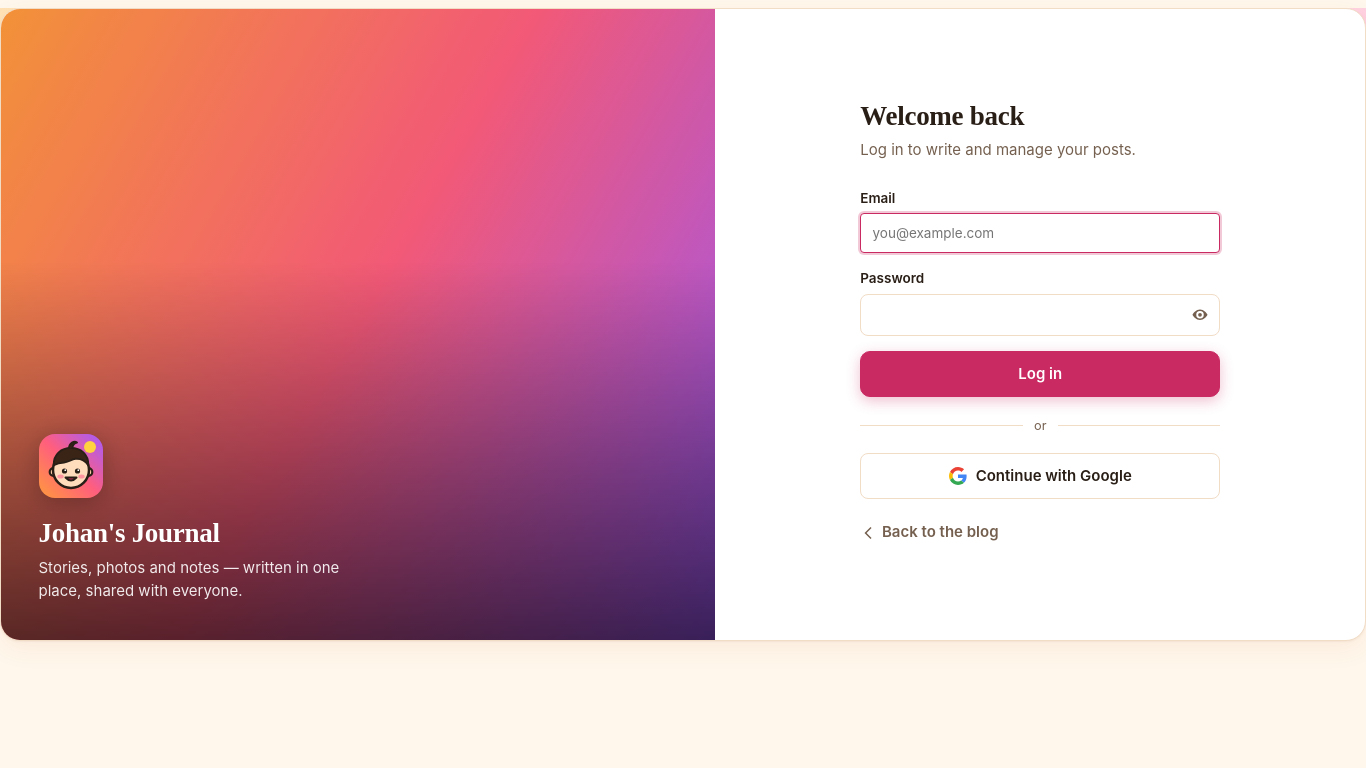
Test: LoginPage › counts down a lockout and disables the button
Step 1. Type "a@b.c" into the field labelled "Email" → (1040, 233), box [860,213,1220,253]
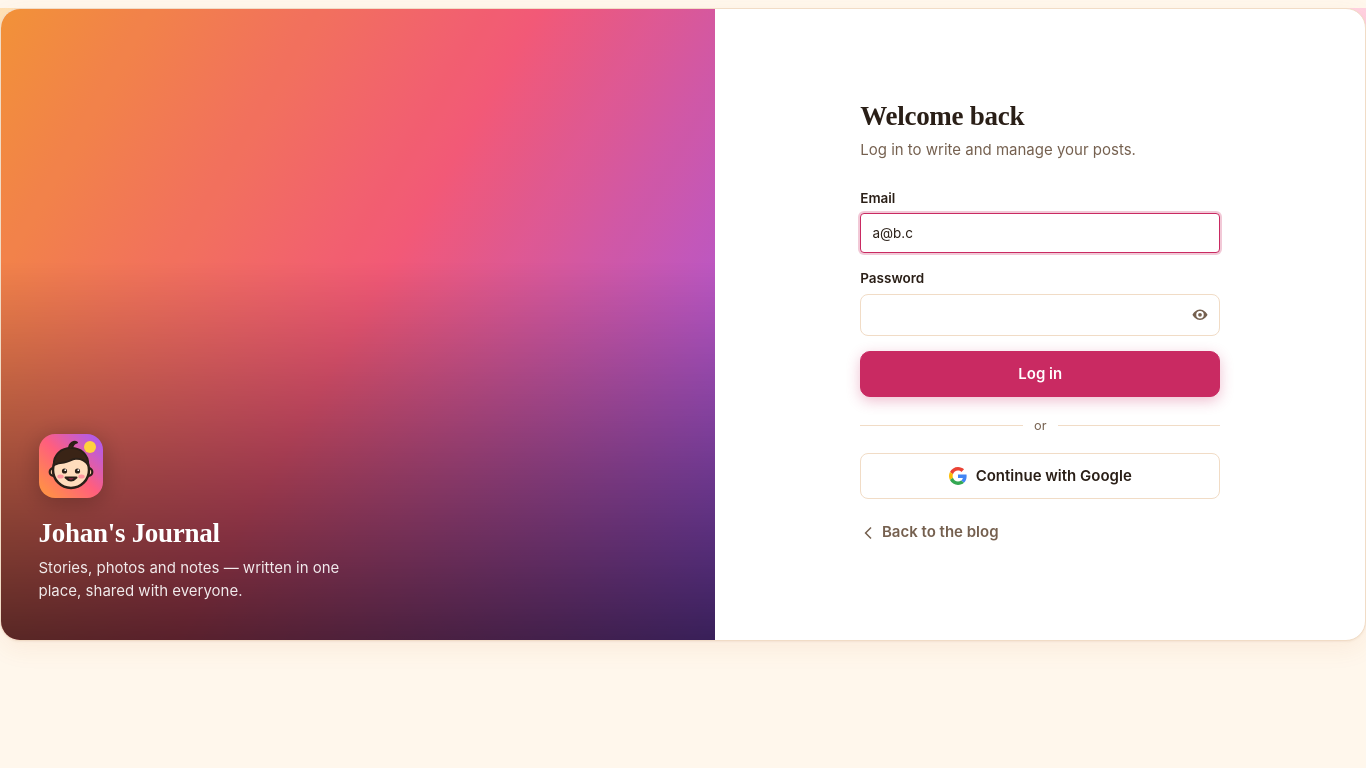
Step 2. Type "wrong" into the password field labelled "Password" → (1040, 315), box [860,294,1220,336]
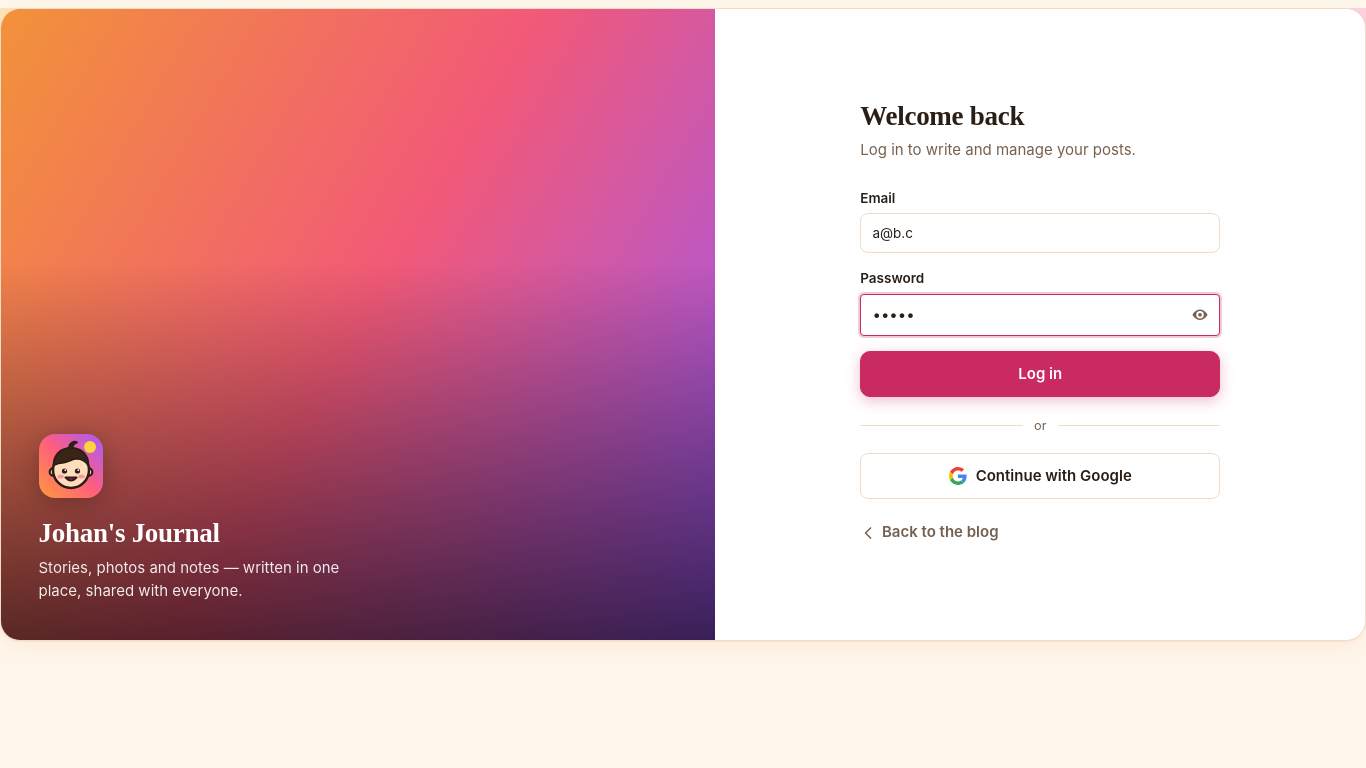
Step 3. Click the button "Log in" → (1040, 374), box [860,351,1220,397]
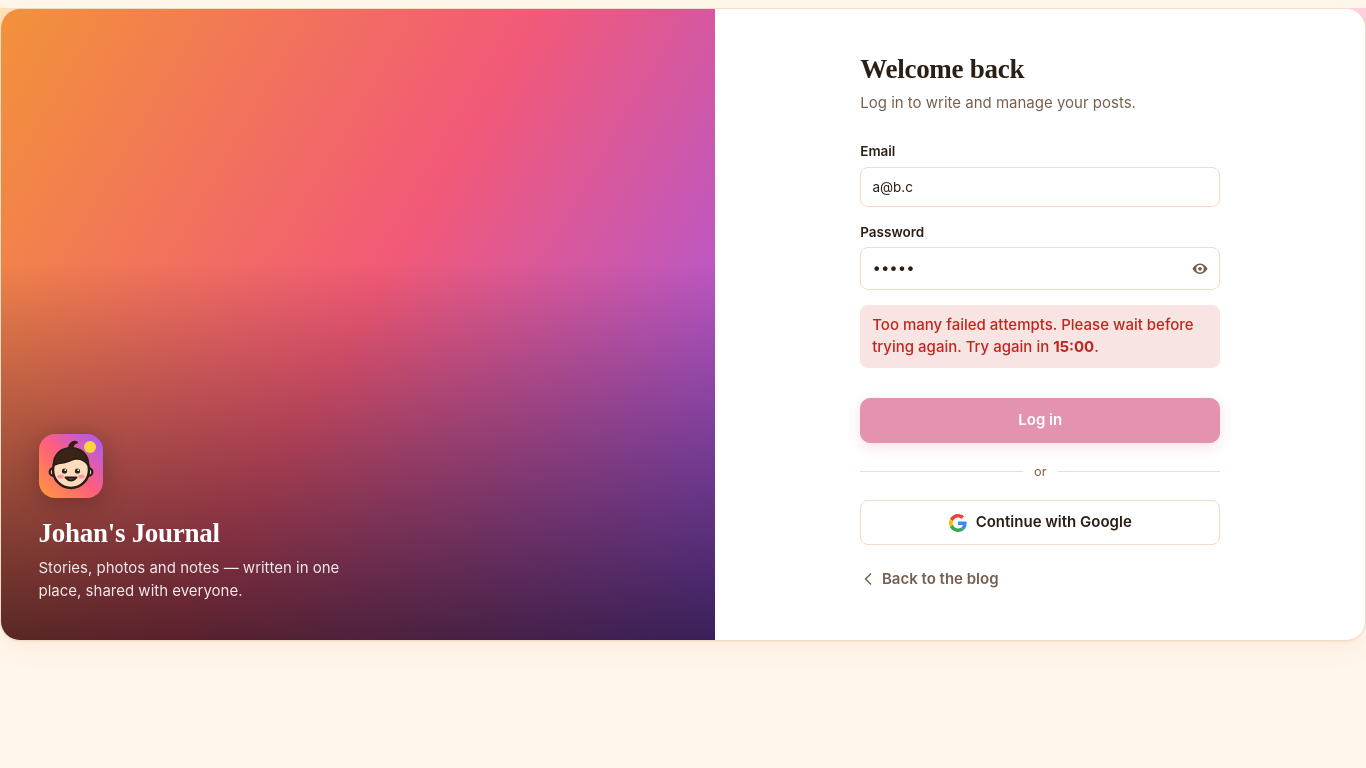
Now the message reads "Too many failed attempts. Please wait before trying again. Try again in 15:00.", box [860,305,1220,368]
Now the button "Log in" is disabled, box [860,398,1220,443]
